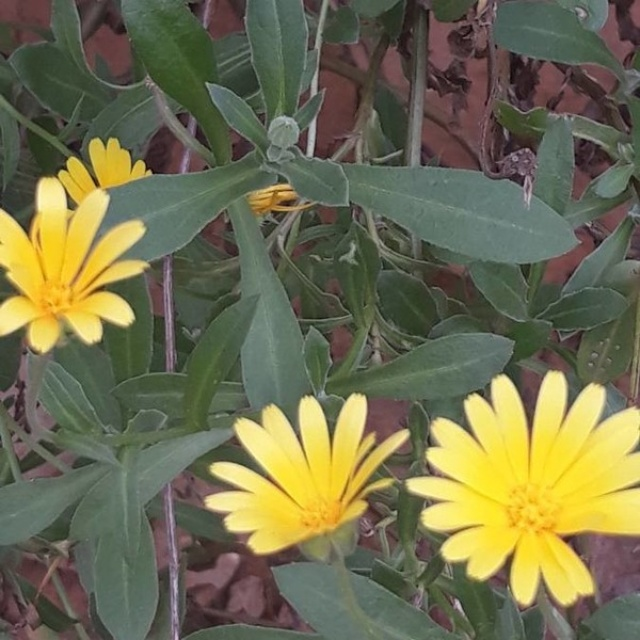obstacle: (48, 126, 607, 607)
